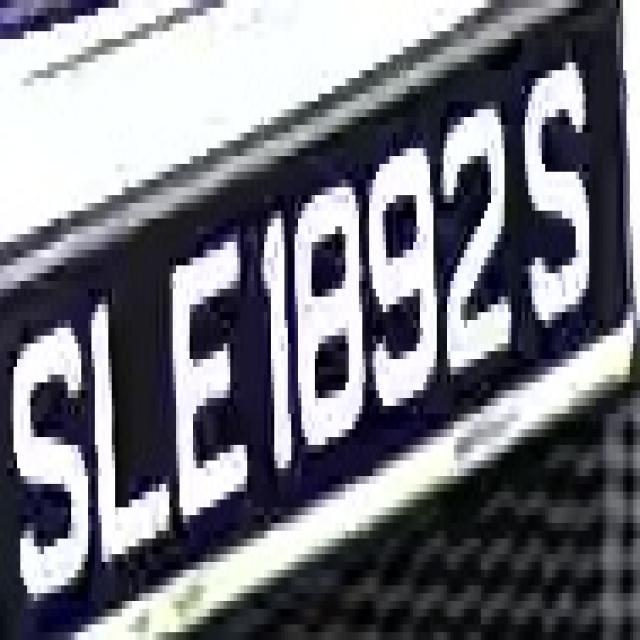1: (264, 188, 305, 508)
2: (440, 86, 515, 398)
8: (288, 140, 369, 460)
9: (356, 125, 447, 414)
E: (166, 218, 251, 546)
L: (78, 273, 173, 578)
S: (508, 39, 603, 375), (10, 296, 94, 640)
